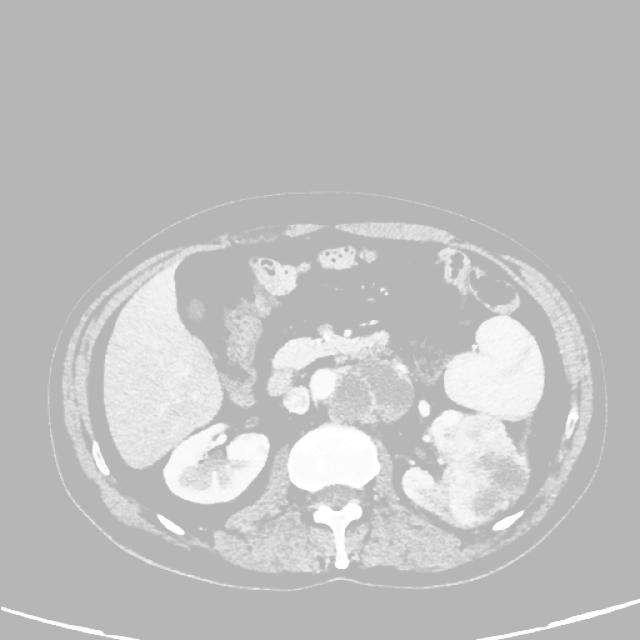TUMOR: (80, 228, 516, 493)
